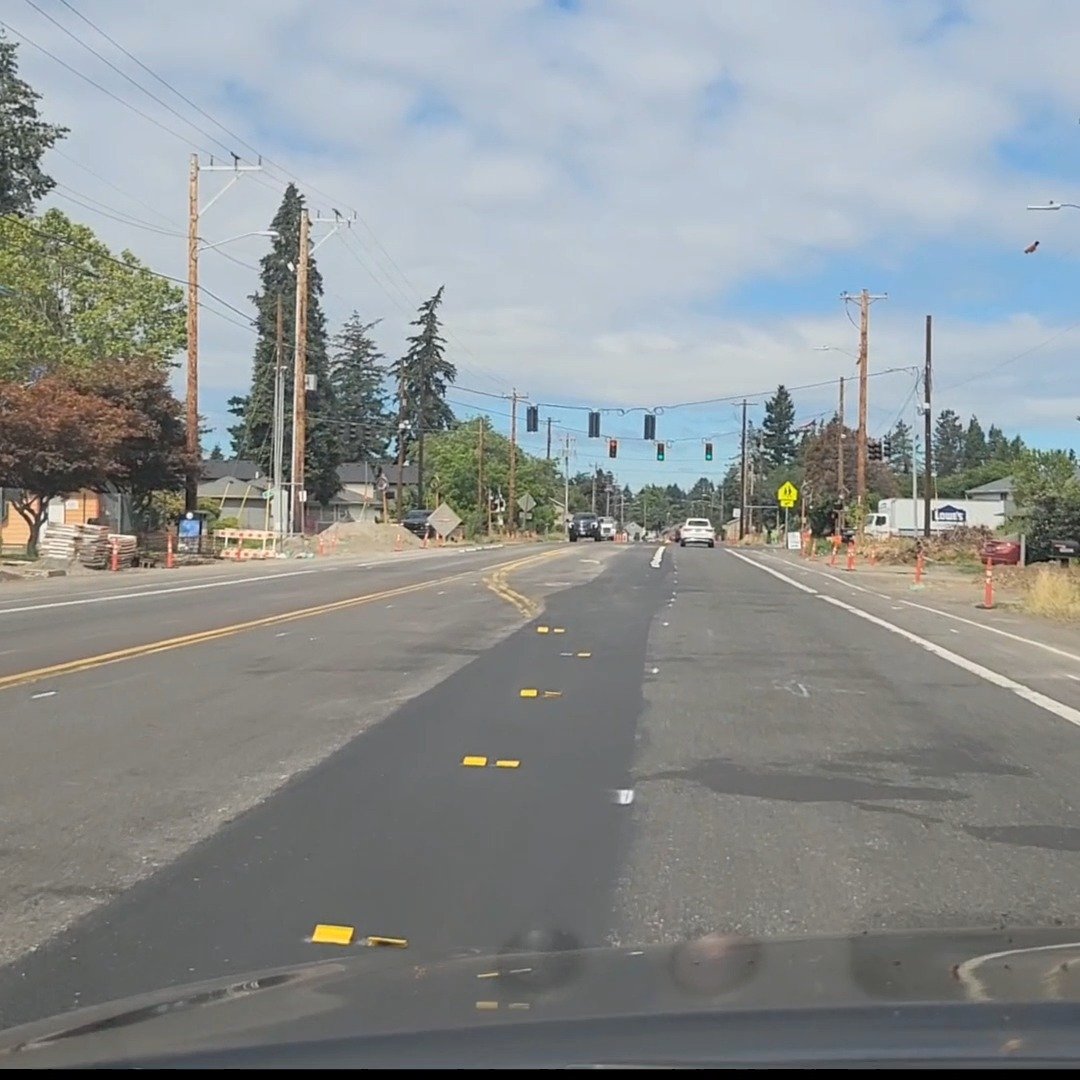car: (1028, 533, 1080, 567), (809, 519, 856, 544), (677, 518, 715, 547), (567, 512, 600, 541), (594, 516, 616, 540)
crosswalk-sign: (776, 481, 797, 507)
delineator: (977, 556, 996, 609), (911, 548, 926, 590), (318, 533, 339, 555), (828, 537, 839, 565), (110, 538, 119, 571), (845, 541, 855, 570), (166, 534, 173, 568), (800, 530, 809, 556), (867, 545, 878, 564), (234, 540, 243, 560), (393, 532, 403, 550), (317, 534, 325, 554), (809, 537, 817, 557), (421, 532, 428, 548), (617, 531, 626, 542)
